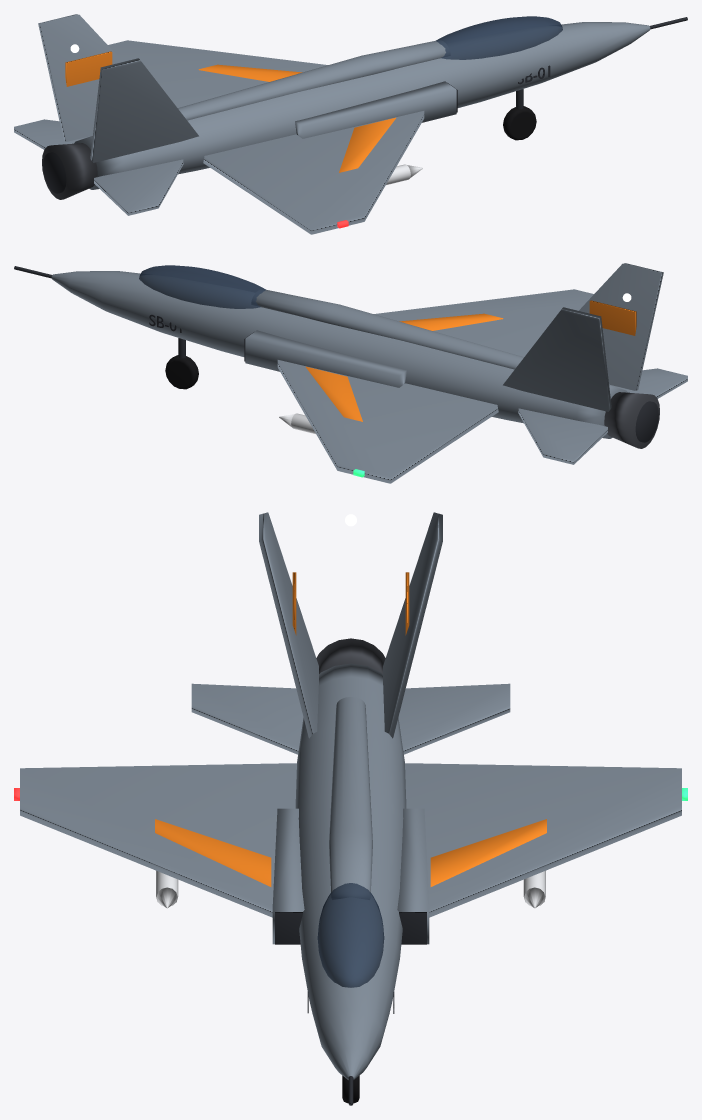
The model's file is jet.glb.
The picture shows the model from 3 angles, top to bottom: view 1: azimuth 30°, elevation 25°; view 2: azimuth 150°, elevation 25°; view 3: azimuth 270°, elevation 25°; orthographic projection. The views are drawn at different scales.
Visible parts, largest first — view 1: body, gear; view 2: body, gear; view 3: body.
Boxes of the visible parts, x1=… form: body: x1=14, y1=14, x2=687, y2=234; gear: x1=503, y1=89, x2=536, y2=140; body: x1=14, y1=263, x2=687, y2=483; gear: x1=165, y1=338, x2=198, y2=389; body: x1=14, y1=512, x2=687, y2=1105.
Bounding box in the file's own units: 83.3 × 25.5 × 55.
